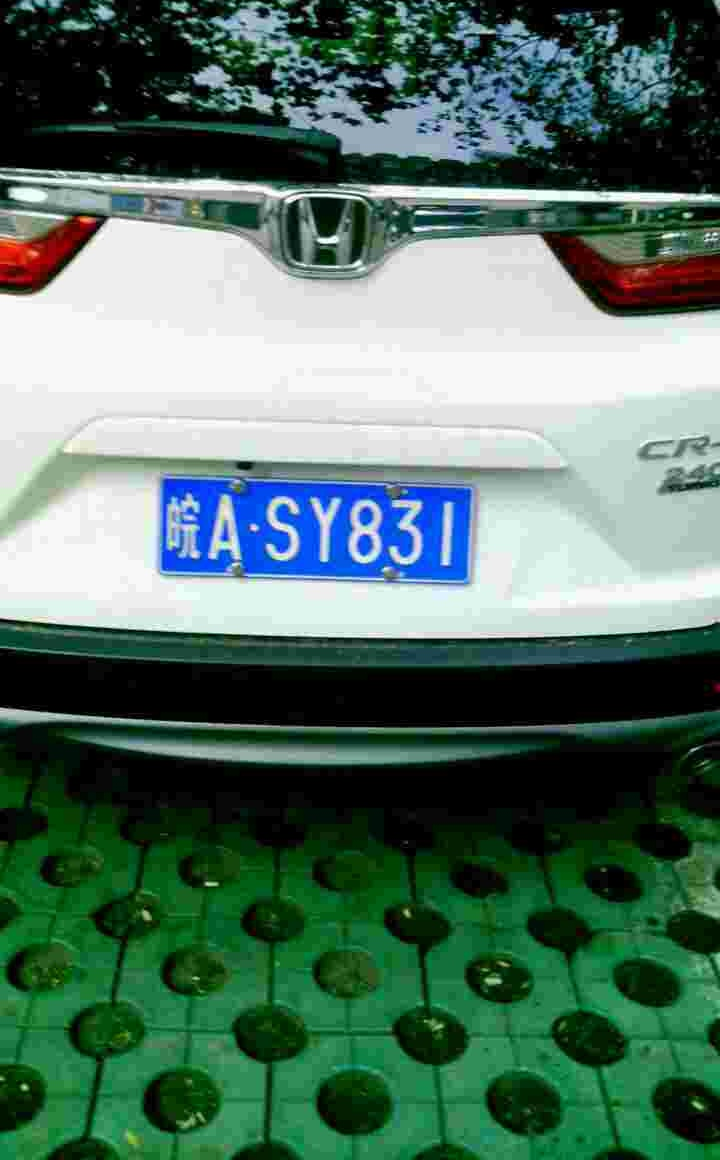license_plate: (164, 477, 483, 579)
